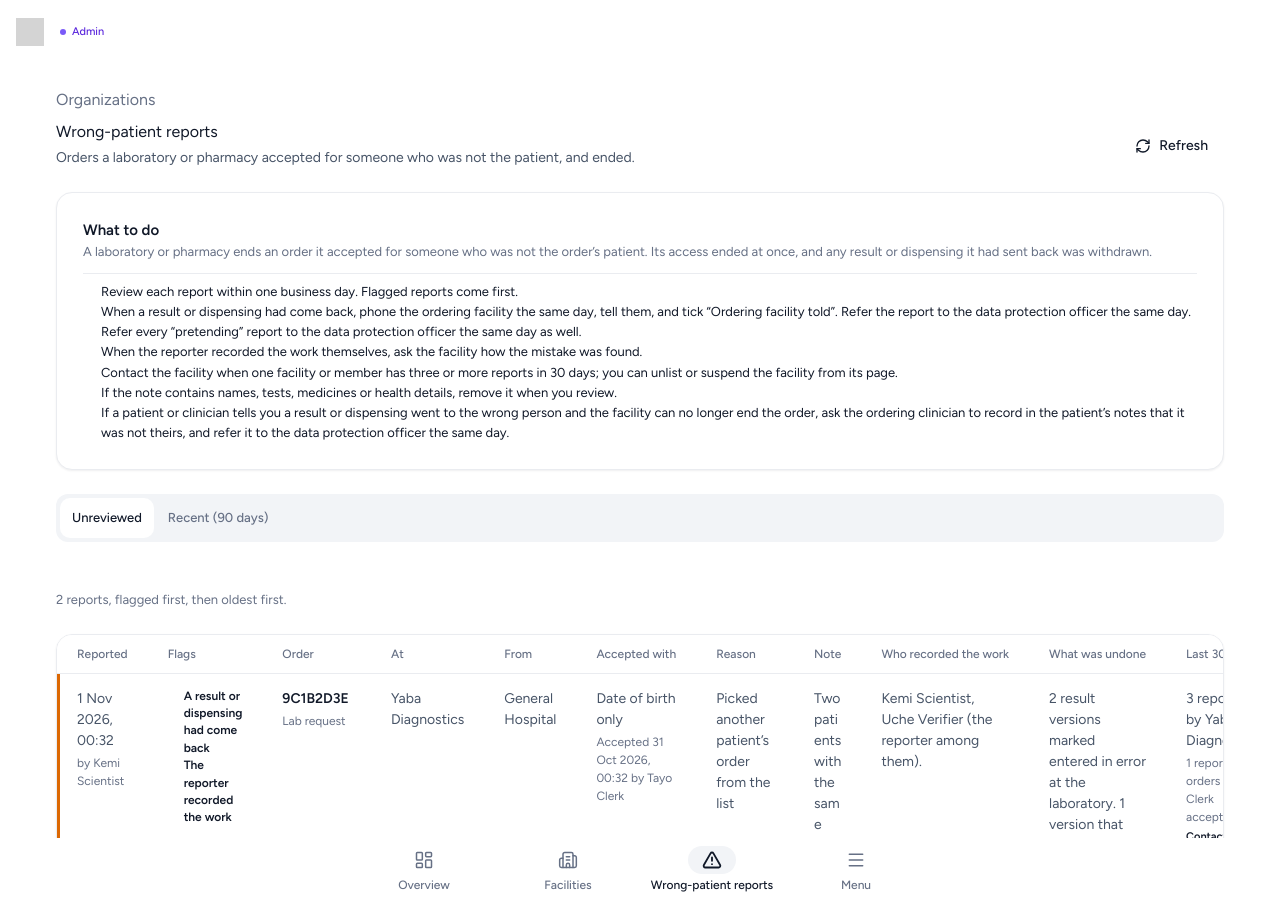
Test case: wrong-patient reports in the Novu console › shows the recent reports
The image size is (1280, 900).
Check: the text "9C1B2D3E" is shown, box left=282, top=688, right=351, bottom=709
Click the button "Recent (90 days)" at (218, 518), box left=156, top=498, right=280, bottom=538
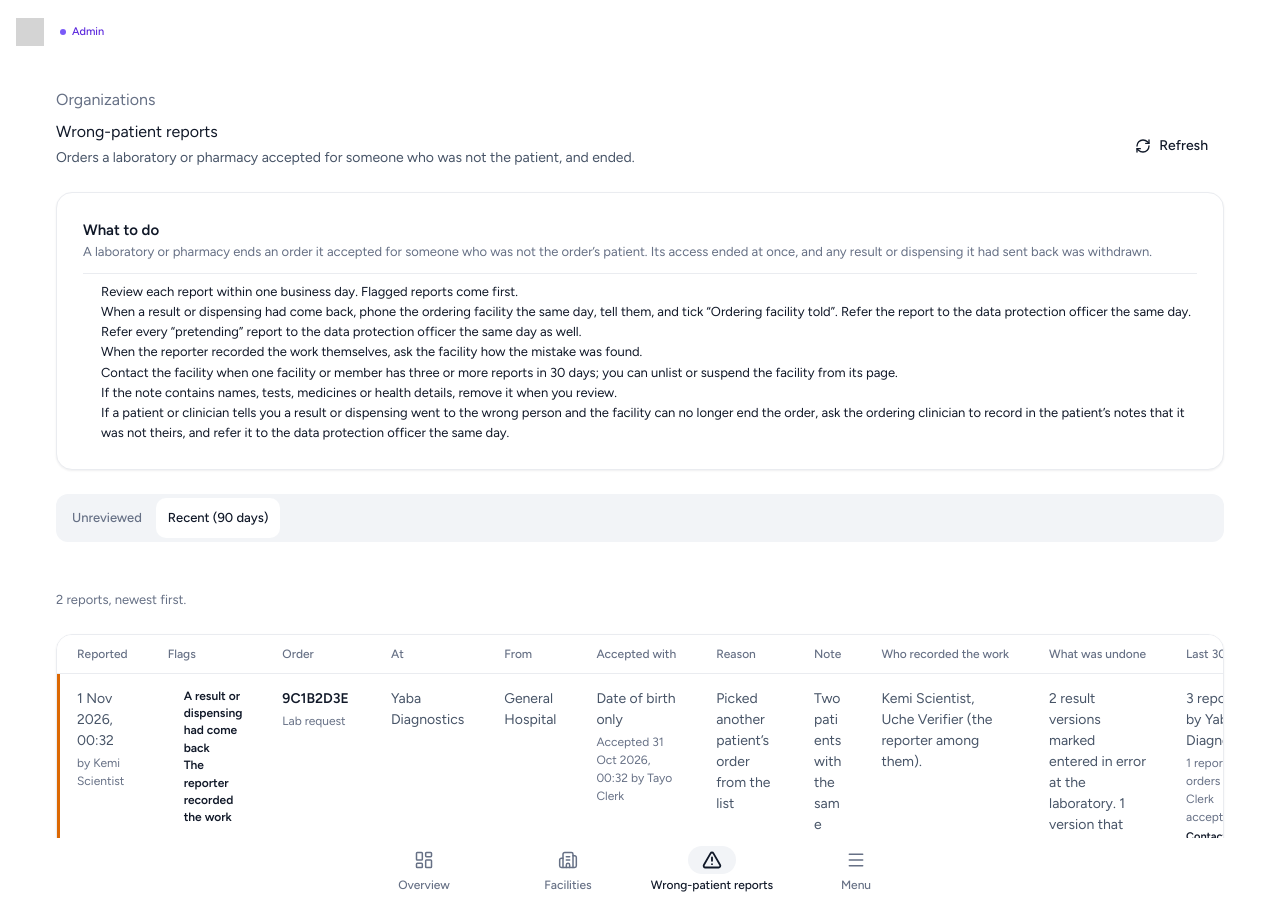
Check: the text "2 reports, newest first." is shown, box left=56, top=592, right=186, bottom=607
